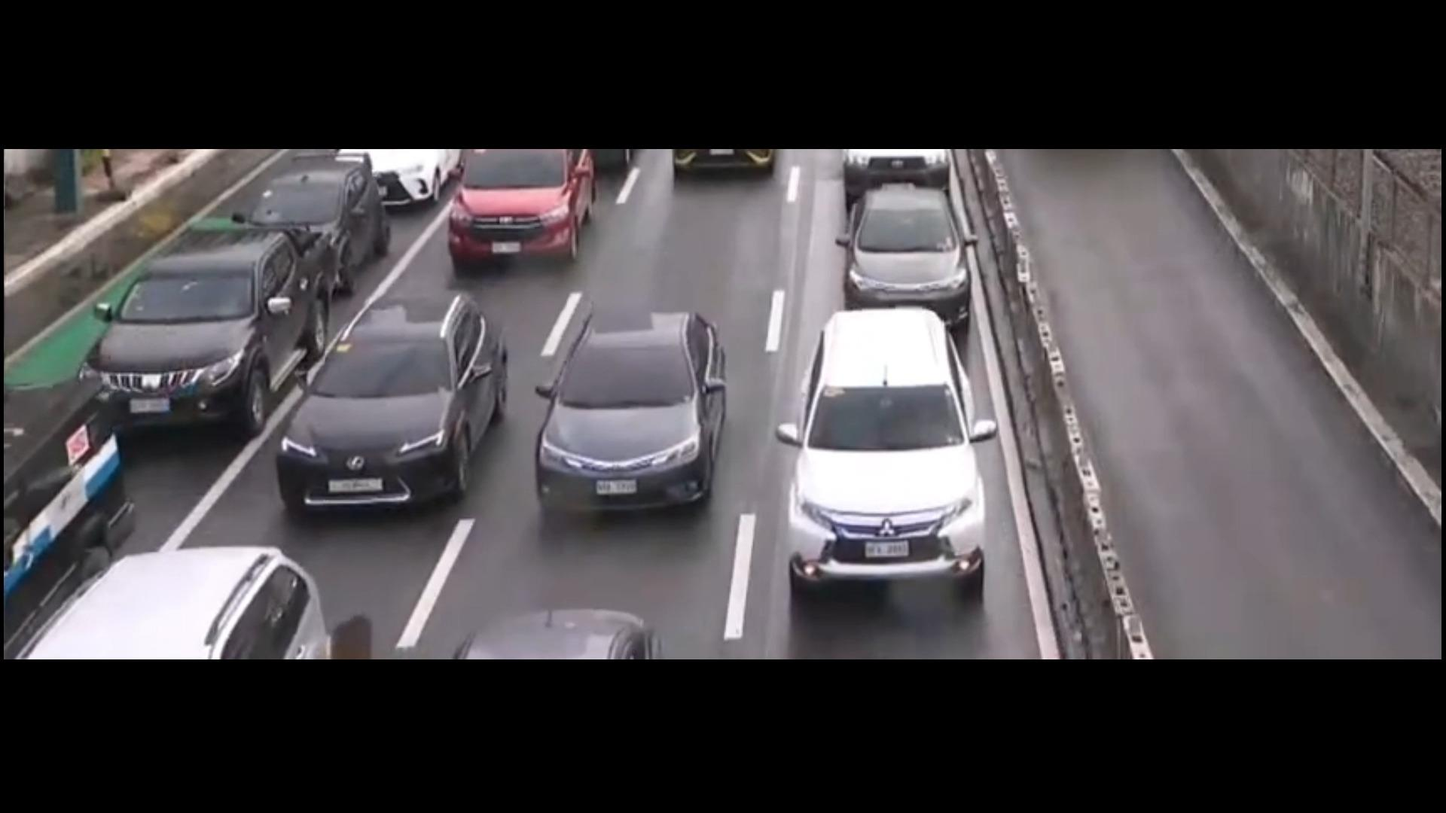Pickup: (77, 221, 334, 438)
SUV: (788, 309, 984, 602), (19, 547, 330, 662), (447, 150, 595, 277)
Sedan: (274, 292, 509, 513), (533, 309, 725, 521), (253, 155, 395, 292), (839, 188, 971, 331), (330, 151, 467, 203)
